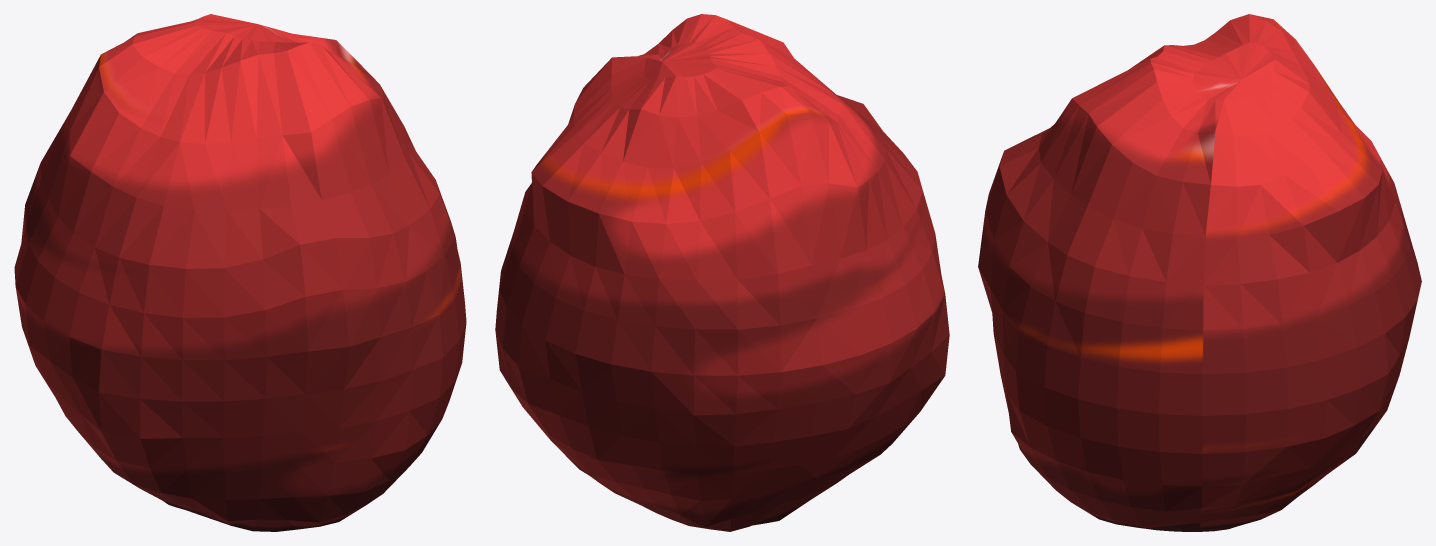
Rendered from enemy_Meteo.obj.
3 views of the same model, side by side, from view 1: azimuth 30°, elevation 25°; view 2: azimuth 150°, elevation 25°; view 3: azimuth 270°, elevation 25° (orthographic). The views are drawn at different scales.
Parts seen in each view (by area): view 1: 球; view 2: 球; view 3: 球.
Part boxes in pixels (x1,y1,x2,y2): 球: [14, 14, 466, 531]; 球: [495, 14, 949, 531]; 球: [978, 14, 1421, 531].
Size of the model in its own units: 1.98 by 2.32 by 1.98.
Materials: 1 (1 with a texture image).
